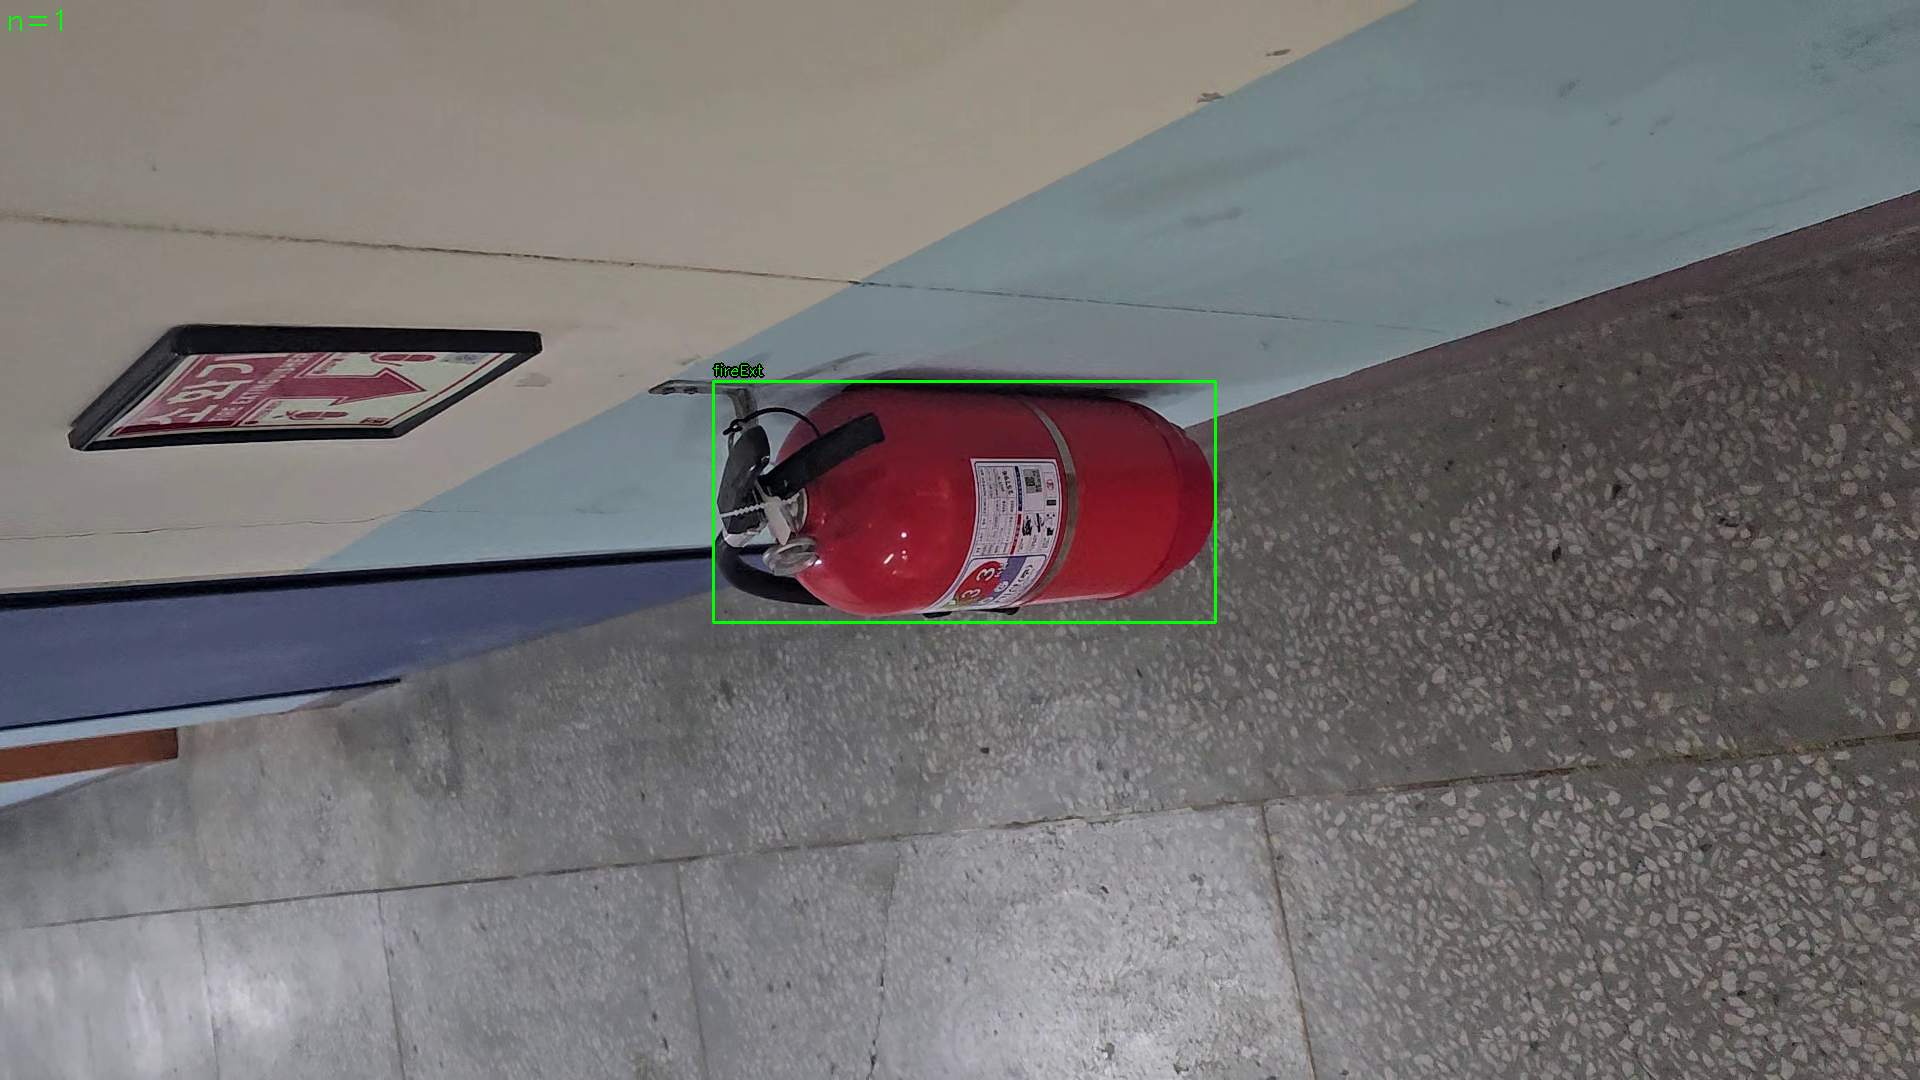lane: (713, 381, 1216, 622)
